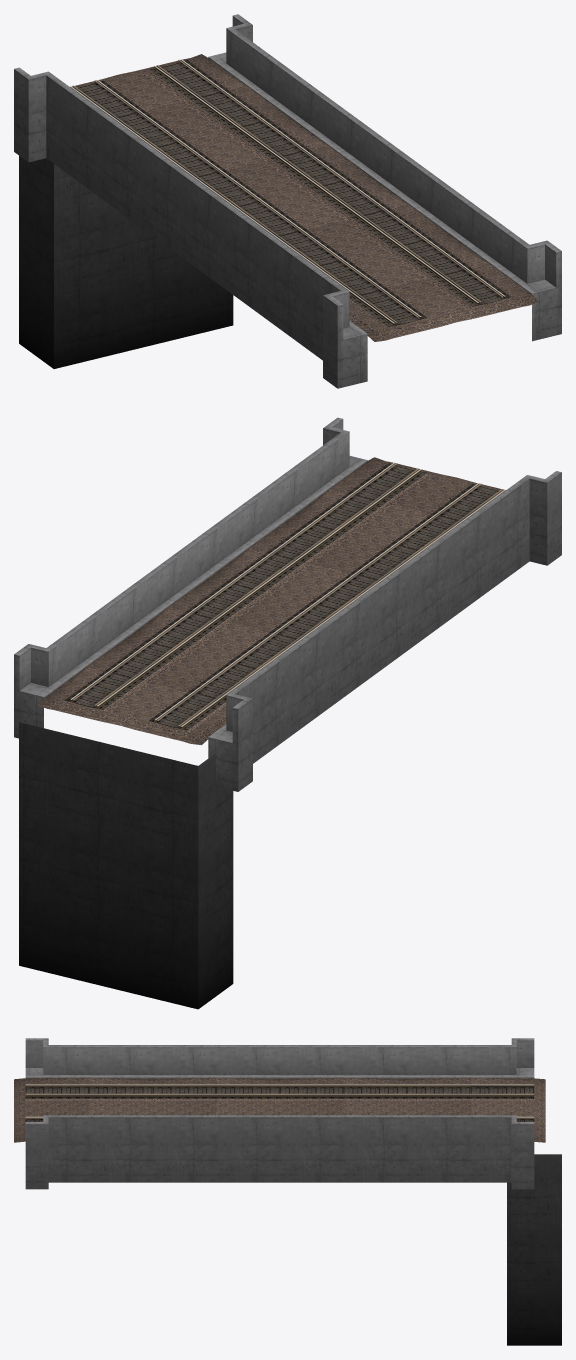
Rendered from KI_RAILKOUKA_100.glb.
3 renders of one model, top to bottom at view 1: azimuth 30°, elevation 25°; view 2: azimuth 150°, elevation 25°; view 3: azimuth 270°, elevation 25°, orthographic. The views are drawn at different scales.
Parts seen in each view (by area): view 1: Jari_All, obj2, R000_RG_R, R000_RG_L; view 2: Jari_All, obj2, R000_RG_R, R000_RG_L; view 3: Jari_All, obj2, R000_RG_L, R000_RG_R.
Boxes of the visible parts, x1,y1,x2,y2 form: Jari_All: (14,14,561,388); obj2: (19,156,233,368); R000_RG_R: (72,65,480,323); R000_RG_L: (94,59,502,317); Jari_All: (14,417,561,791); obj2: (19,722,233,1009); R000_RG_R: (94,468,503,727); R000_RG_L: (72,463,481,721); Jari_All: (14,1038,545,1189); obj2: (507,1154,561,1345); R000_RG_L: (25,1093,534,1094); R000_RG_R: (25,1085,534,1118).
Size of the model in its own units: 40 by 49.93 by 108.
8 materials, 7 textured.
